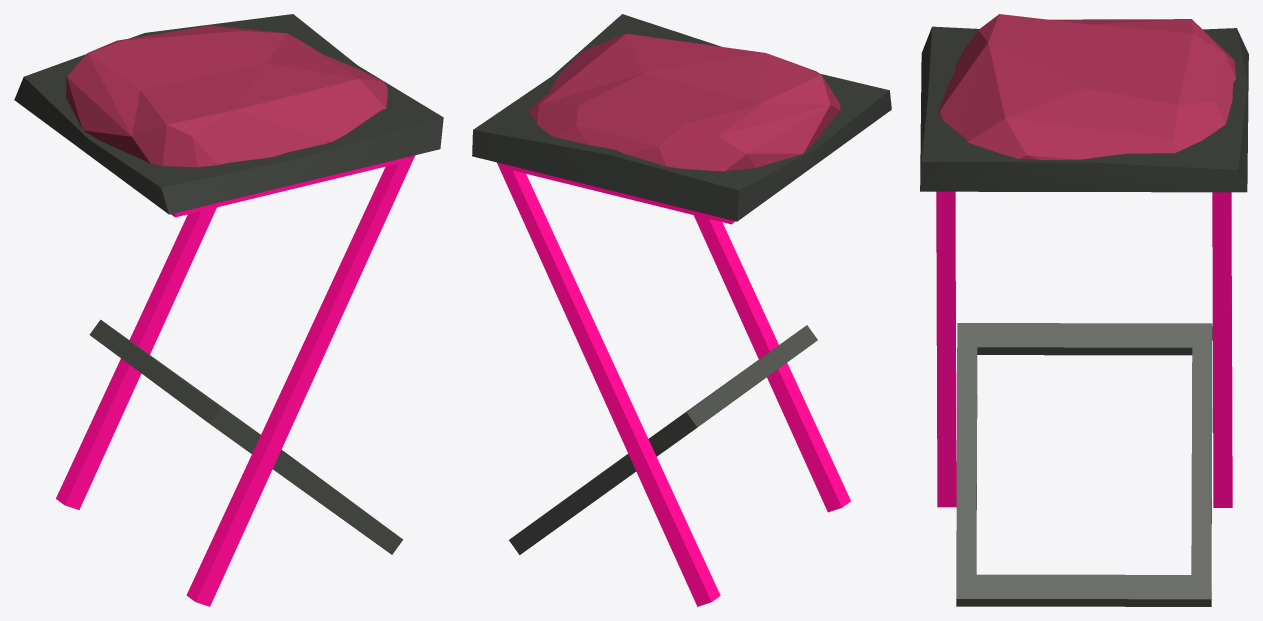
Rendered from Stool_A.glb.
3 renders of one model, left to right at view 1: azimuth 30°, elevation 25°; view 2: azimuth 150°, elevation 25°; view 3: azimuth 270°, elevation 25°, orthographic. The views are drawn at different scales.
Visible parts, largest first — view 1: BarChair_A; view 2: BarChair_A; view 3: BarChair_A.
Boxes of the visible parts, x1,y1,x2,y2 form: BarChair_A: (14, 14, 443, 606); BarChair_A: (472, 14, 891, 606); BarChair_A: (920, 14, 1248, 606).
Size of what is drawn, in the model's own units: 0.6171 by 0.9966 by 0.6029.
1 material, 1 textured.
